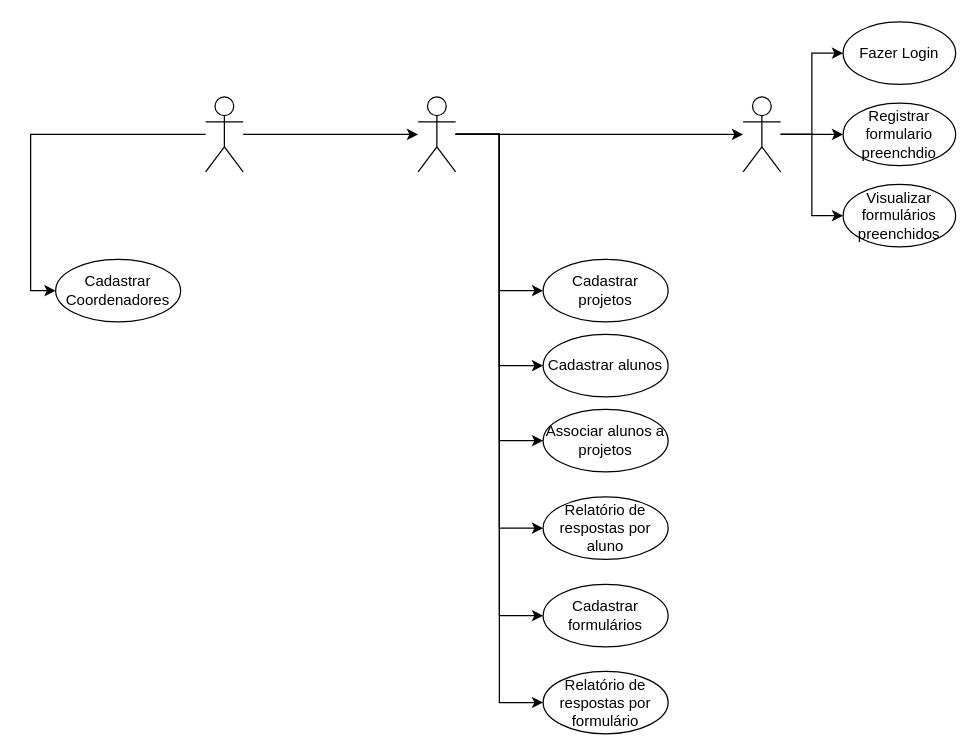
The diagram is 978 pixels wide and 756 high, and some of its shapes have lost their labels. Each missing label, with the centre of its shape:
"Administrador" goes at point 223,134.
"Aluno" goes at point 761,134.
"Coordenador" goes at point 436,134.
